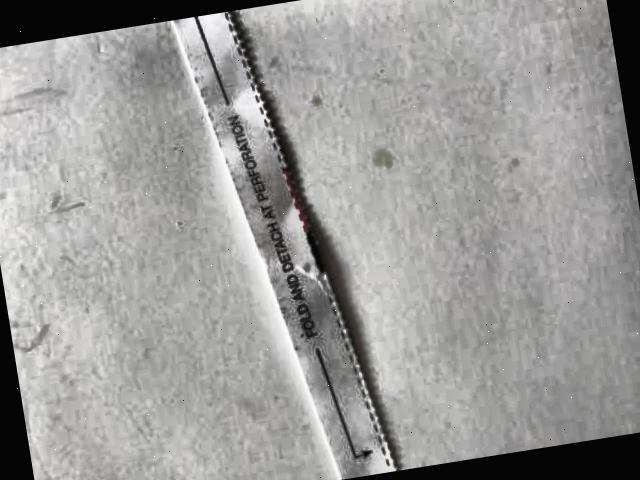Paper: (162, 0, 400, 480)
